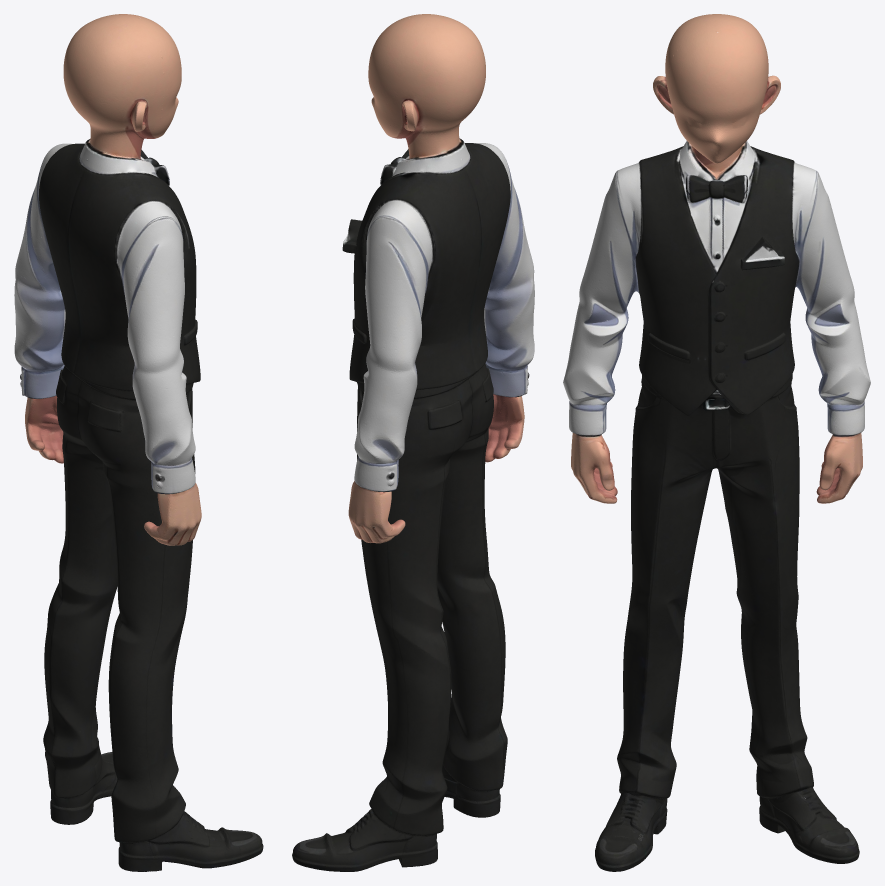
The model's file is man+in+tuxedo+3d+model.glb.
The picture shows the model from 3 angles, left to right: view 1: azimuth 30°, elevation 25°; view 2: azimuth 150°, elevation 25°; view 3: azimuth 270°, elevation 25°; orthographic projection.
Parts seen in each view (by area): view 1: tripo_node_600d2921-73af-4fe4-be3b-01b09a29d03d; view 2: tripo_node_600d2921-73af-4fe4-be3b-01b09a29d03d; view 3: tripo_node_600d2921-73af-4fe4-be3b-01b09a29d03d.
Boxes of the visible parts, <box> form: tripo_node_600d2921-73af-4fe4-be3b-01b09a29d03d: <box>14,14,263,871</box>; tripo_node_600d2921-73af-4fe4-be3b-01b09a29d03d: <box>292,14,534,871</box>; tripo_node_600d2921-73af-4fe4-be3b-01b09a29d03d: <box>563,14,870,871</box>.
Bounding box in the file's own units: 0.182 × 1 × 0.3433.
Materials: 1 (1 with a texture image).
